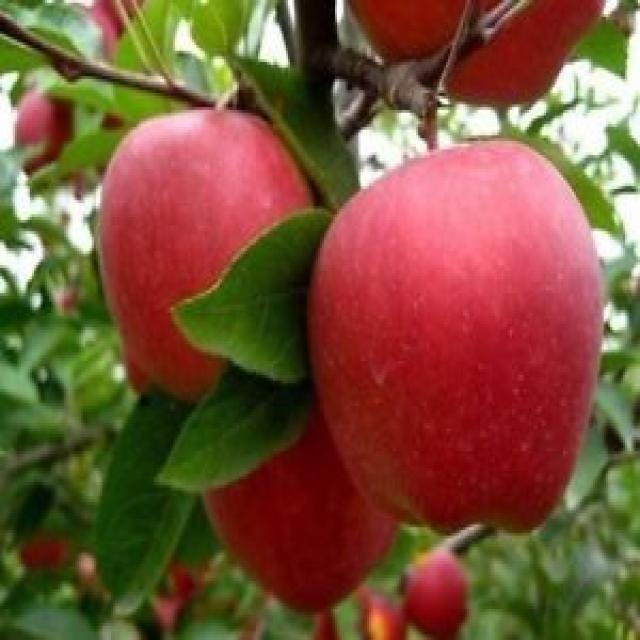apple: (311, 143, 607, 545), (98, 105, 319, 422), (195, 378, 400, 606), (343, 0, 591, 110), (398, 543, 478, 637), (9, 79, 76, 183), (12, 501, 81, 579), (143, 546, 211, 620), (81, 3, 152, 62), (346, 589, 401, 640), (296, 609, 345, 640)
